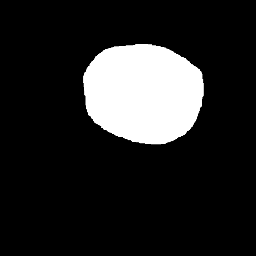mass: (86, 42, 199, 139)
